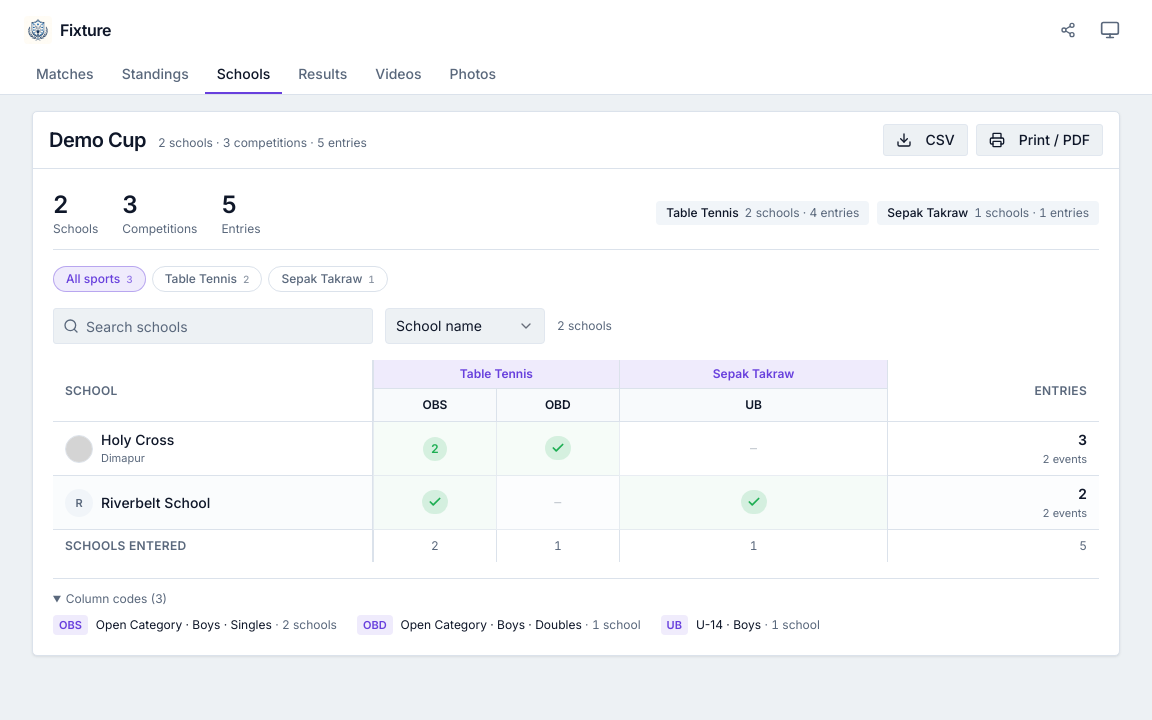
Test case: PublicEntriesPage › filters to one sport, dropping the schools that are not in it
The width and height of the screenshot is (1152, 720).
Expected: the table with test id "entries-matrix" is shown, [53,360,1099,562]
Click the tab with test id "entries-sport-pick-sepak_takraw" at (328, 279), box [268,266,388,292]
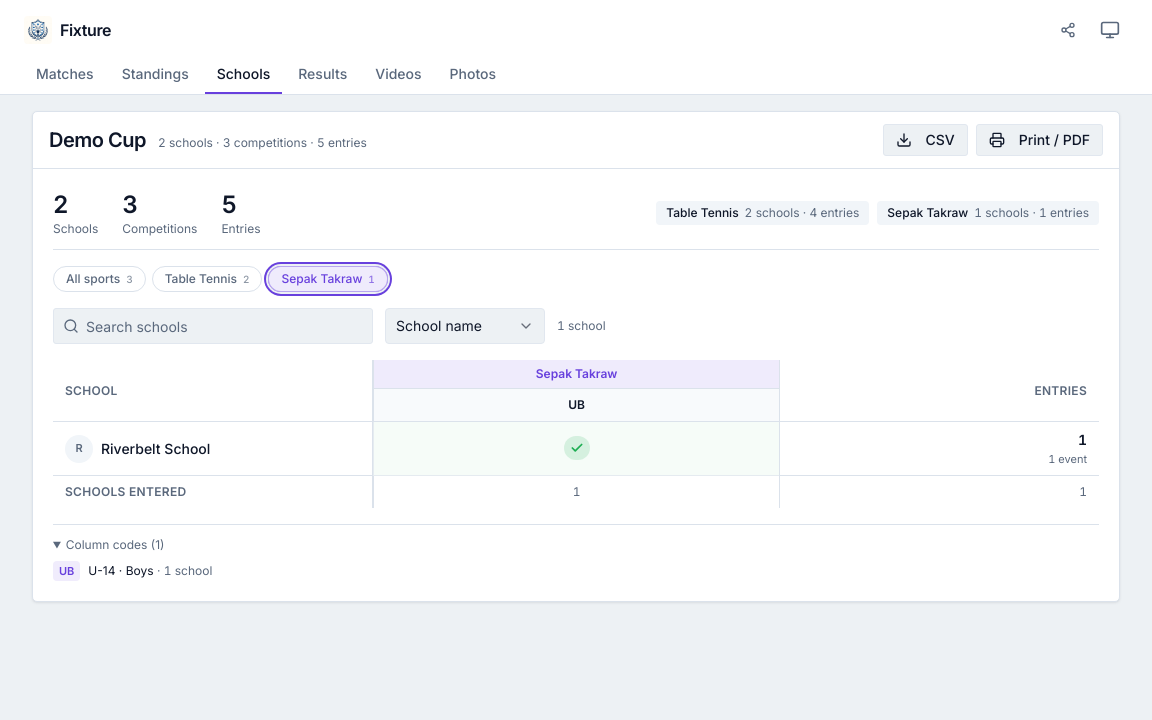
Expected: the row with test id "entries-row-i2" is shown, [53,422,1099,476]
Expected: the row with test id "entries-row-i1" is gone
Expected: the column heading with test id "entries-band-table_tennis" is gone
